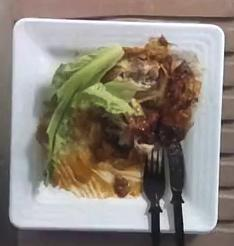lettuce: (47, 48, 136, 153)
unknown: (121, 38, 201, 146)
